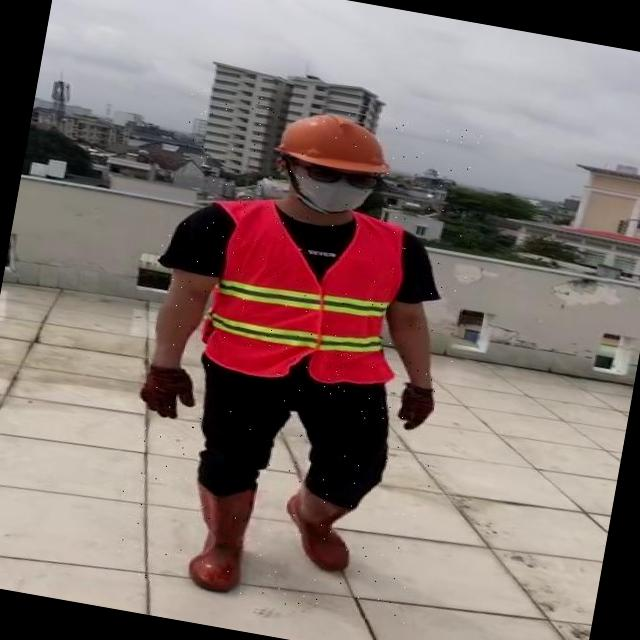boots: (179, 480, 259, 598), (276, 480, 367, 576)
gloves: (360, 370, 483, 479), (138, 349, 254, 446)
helmet: (268, 102, 408, 180)
vest: (198, 193, 412, 392)
